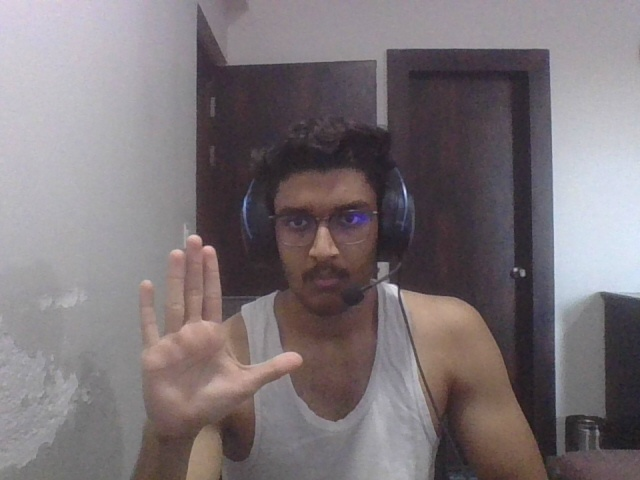Hello: (122, 231, 312, 431)
